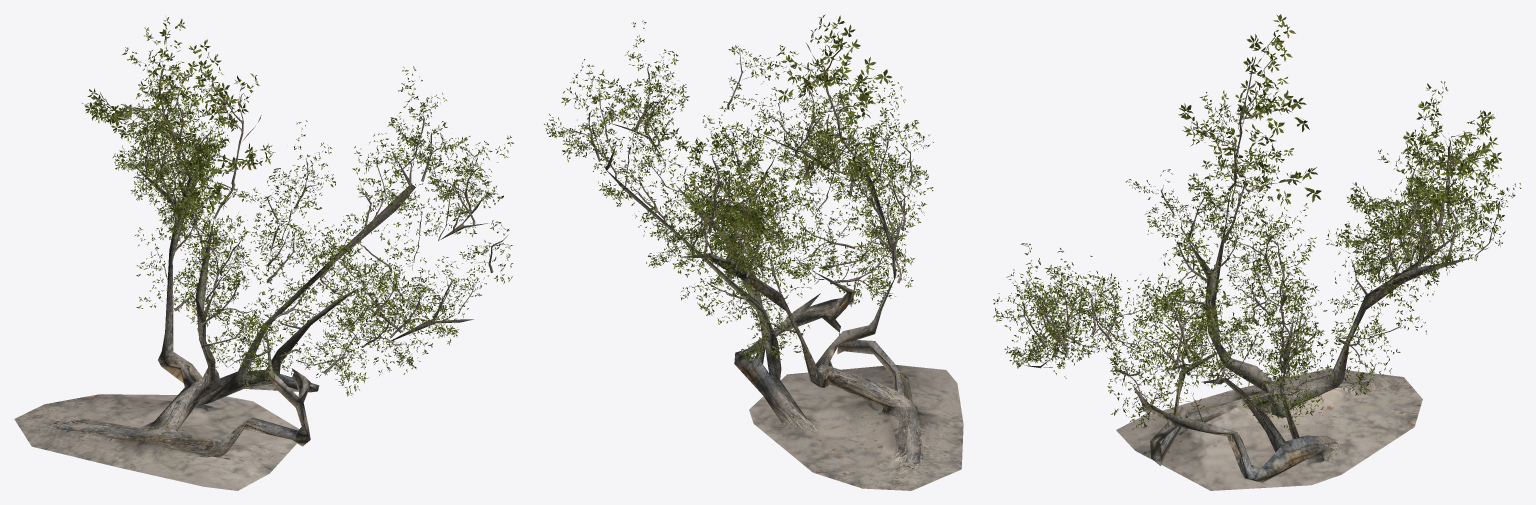
Rendered from ph_island_tree3.glb.
The picture shows the model from 3 angles, left to right: view 1: azimuth 30°, elevation 25°; view 2: azimuth 150°, elevation 25°; view 3: azimuth 270°, elevation 25°; orthographic projection. The views are drawn at different scales.
Visible parts, largest first — view 1: island_tree_03_LOD0; view 2: island_tree_03_LOD0; view 3: island_tree_03_LOD0.
Boxes of the visible parts, x1=… form: island_tree_03_LOD0: x1=14, y1=17, x2=513, y2=490; island_tree_03_LOD0: x1=544, y1=14, x2=963, y2=490; island_tree_03_LOD0: x1=993, y1=14, x2=1521, y2=490.
Bounding box in the file's own units: 2.96 × 2.61 × 2.89.
3 materials, 3 textured.
